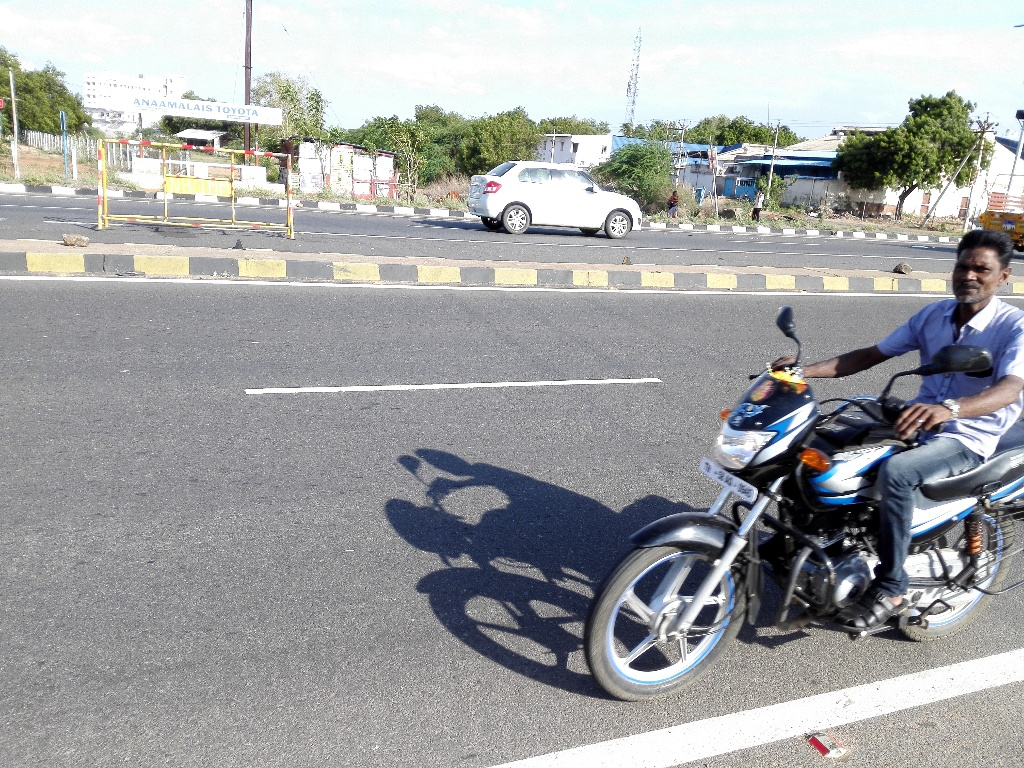biker: (565, 180, 1024, 722)
nohelmet: (934, 213, 1017, 328)
